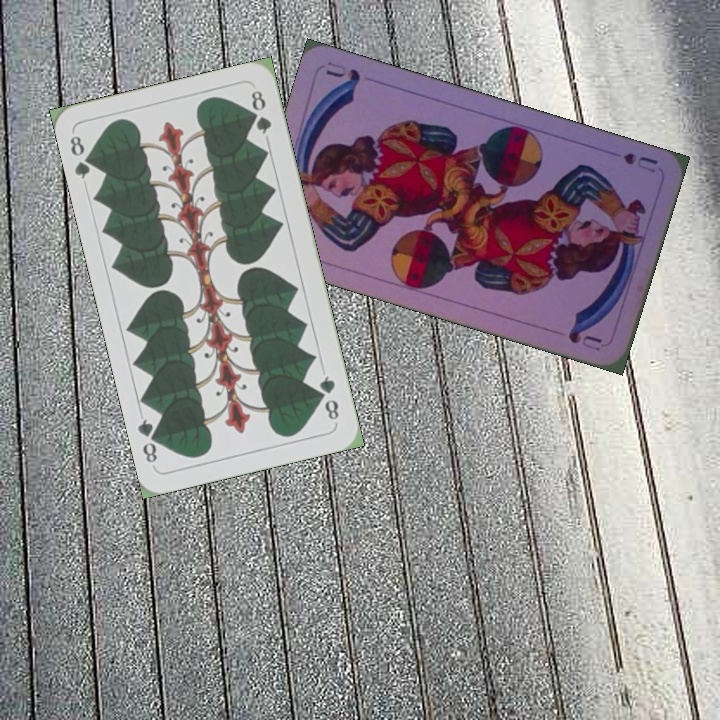G8: (65, 131, 98, 182), (315, 372, 342, 426)
SU: (619, 148, 661, 175)
